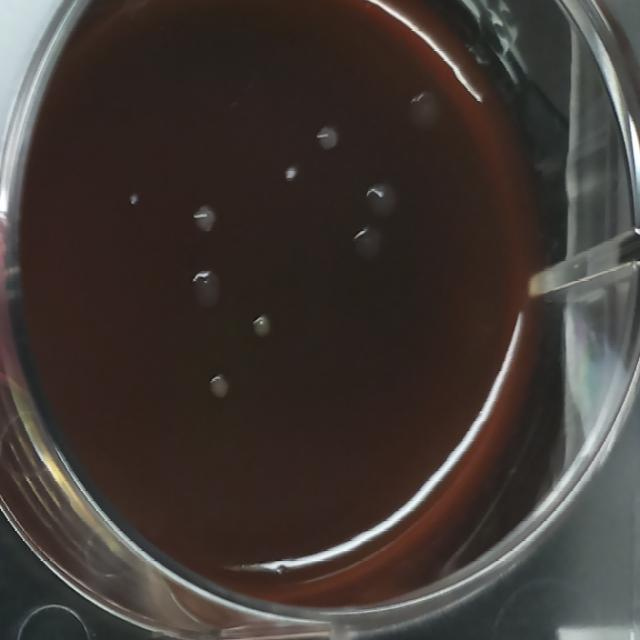Staphylococcus: (281, 161, 302, 184)
Vagococcus: (206, 368, 236, 408), (248, 310, 276, 345)
Vibrio: (185, 262, 227, 316), (404, 87, 446, 137), (350, 220, 390, 268), (364, 180, 402, 222)
